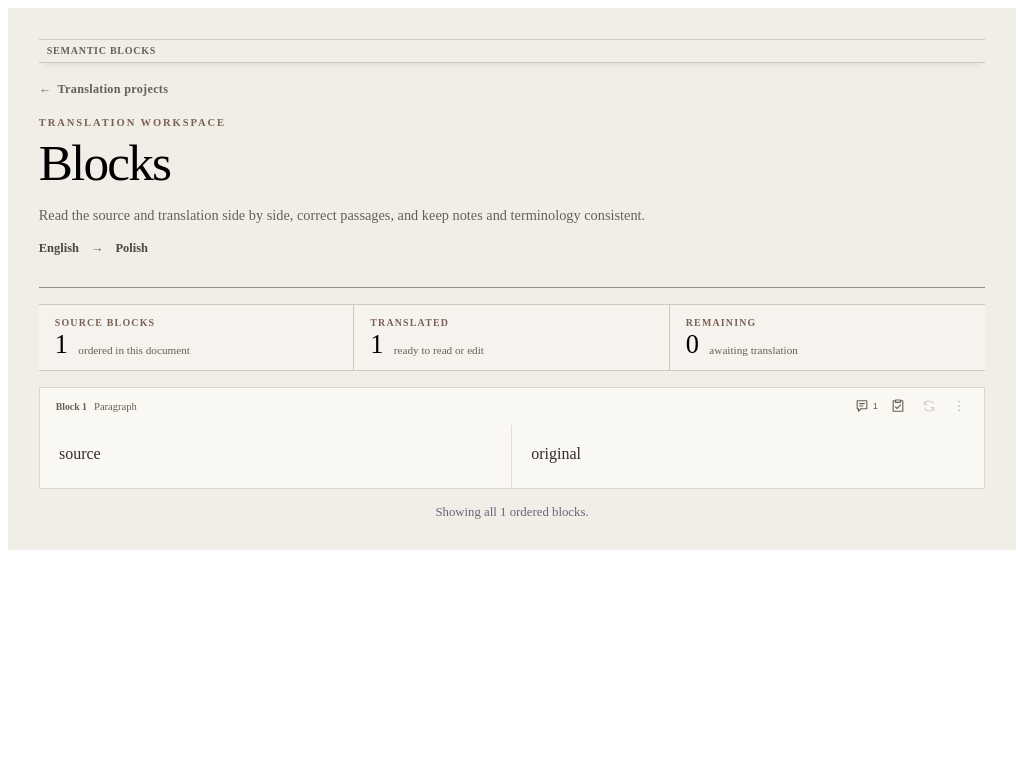
Test: BlockWorkspaceApp presentation › shows active translator notes separately from editable target text
Click the button named "Notes for block 1: 1". click: click(866, 406)
box: x1=850 y1=392 x2=882 y2=421
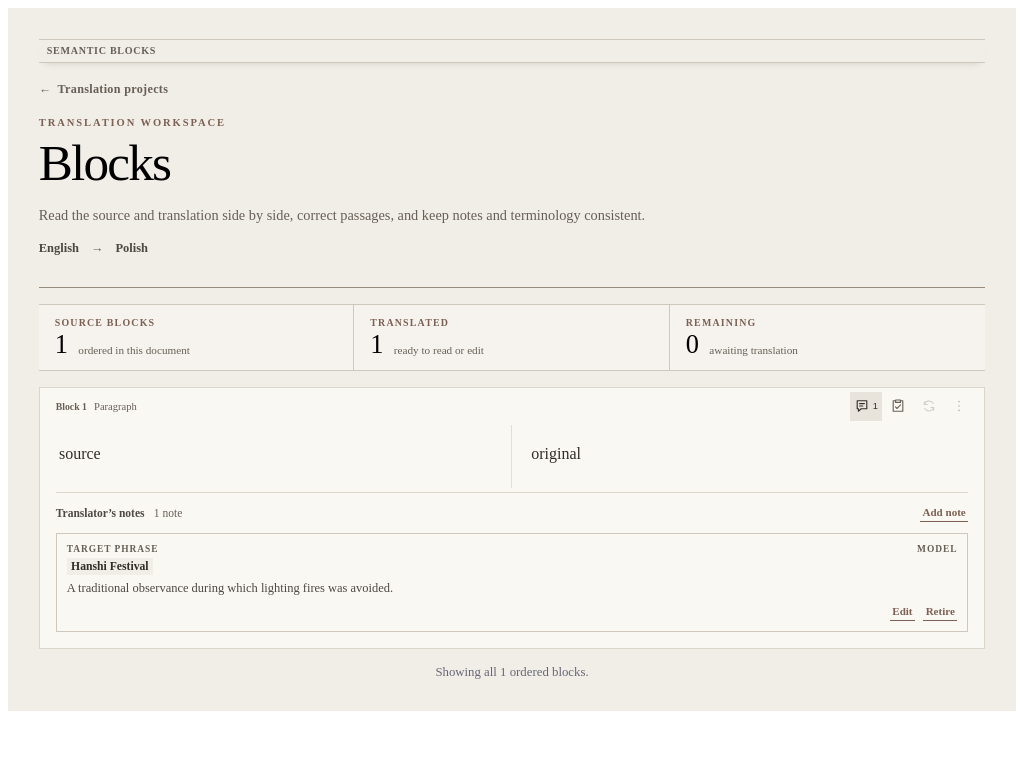
Check: the text "Hanshi Festival" is shown, box x1=67 y1=558 x2=153 y2=575
Check: the text "lighting fires was avoided" is shown, box x1=67 y1=581 x2=393 y2=595
